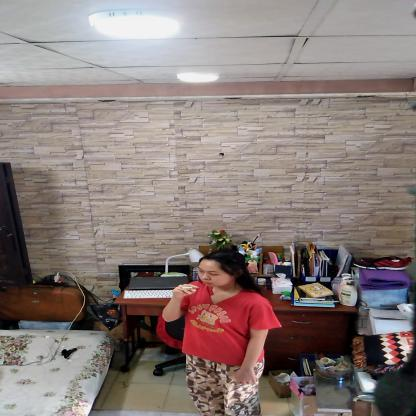cigarette: (180, 286, 195, 288)
person: (164, 249, 277, 415)
